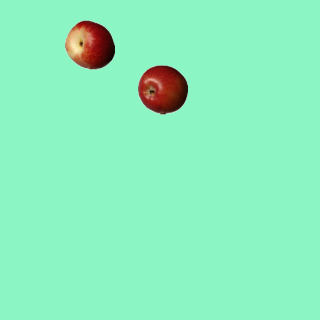Apple Braeburn: (137, 64, 187, 114)
Nectarine: (64, 19, 114, 69)
